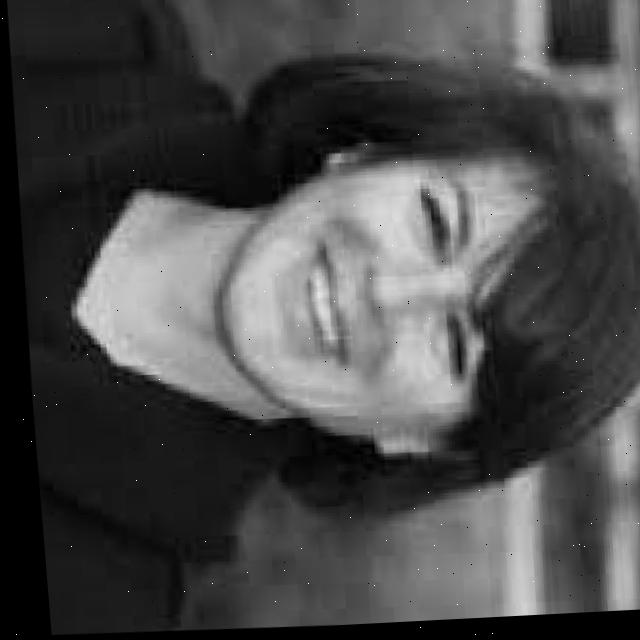happy: (146, 87, 640, 519)
